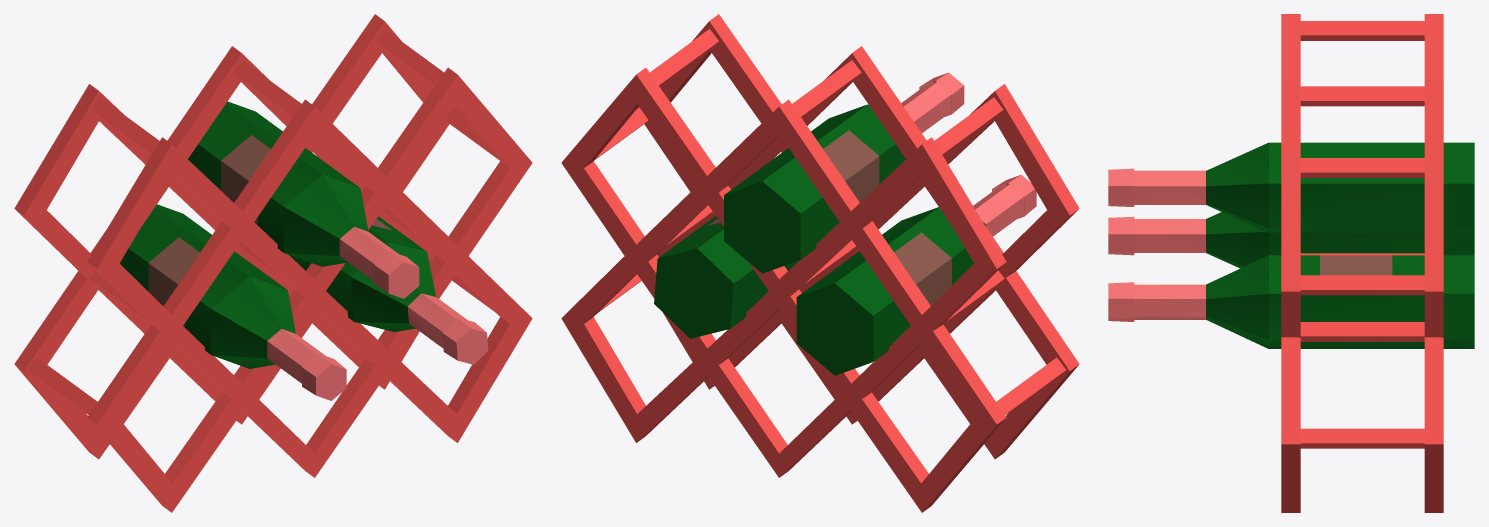
The model's file is prop_031.glb.
The picture shows the model from 3 angles, left to right: view 1: azimuth 30°, elevation 25°; view 2: azimuth 150°, elevation 25°; view 3: azimuth 270°, elevation 25°; orthographic projection.
Parts seen in each view (by area): view 1: prop_031; view 2: prop_031; view 3: prop_031.
Part boxes in pixels (x1,y1,x2,y2): prop_031: (14,14,532,512); prop_031: (561,14,1079,512); prop_031: (1108,14,1474,512).
Size of the model in its own units: 0.5084 by 0.4144 by 0.3768.
Materials: 1 (1 with a texture image).
